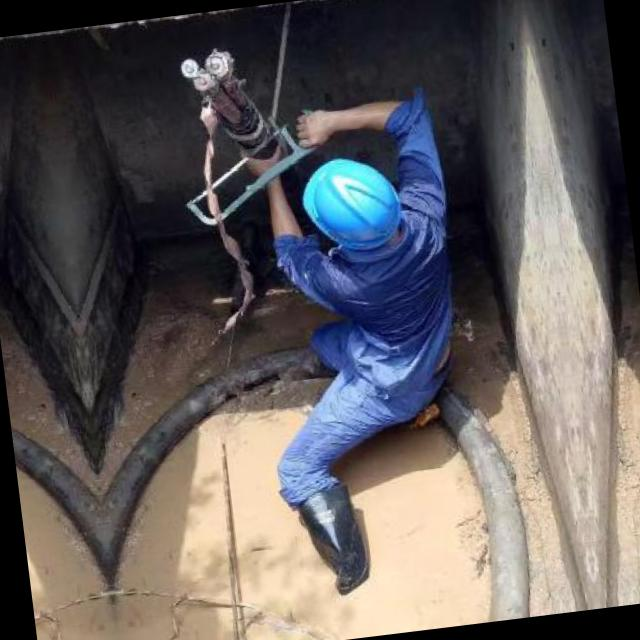helmet: (292, 143, 409, 260)
